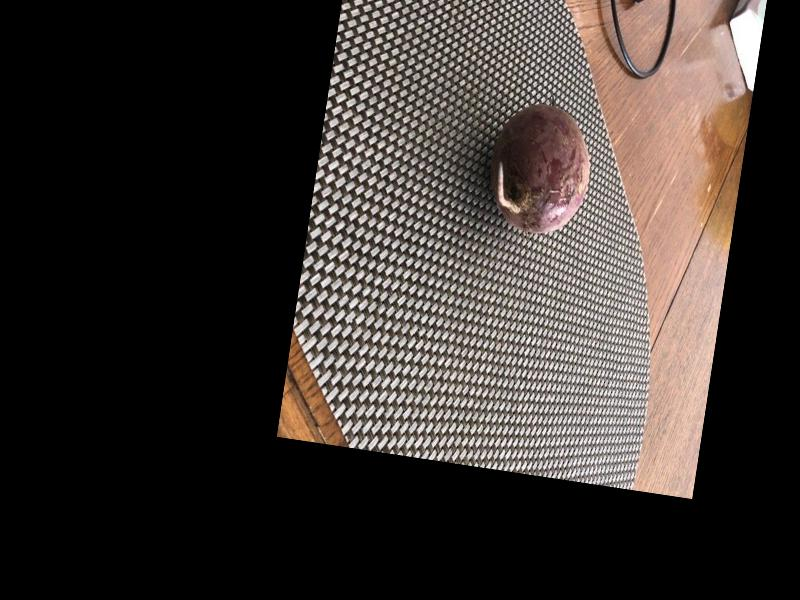Beet: (482, 97, 598, 239)
